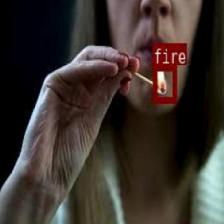fire: (152, 64, 176, 102)
